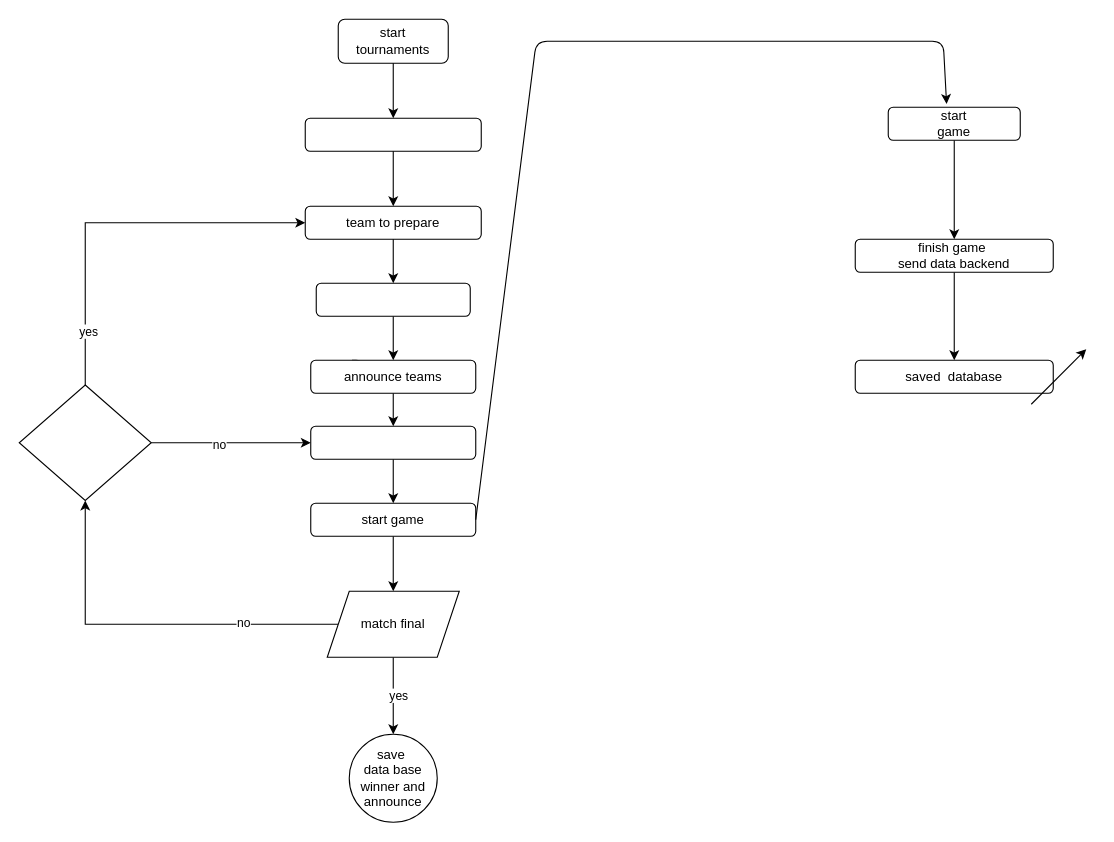
Image size: 1114x842. Some labels were removed from this diagram. The shapes that lost their labels are listed below. From the top down, each one's centre as x and y in pixels, then its label:
the point at 392,134: data base create tournaments id
the point at 392,299: save database and send host
the point at 84,442: last match for round
the point at 393,442: announce match and players
